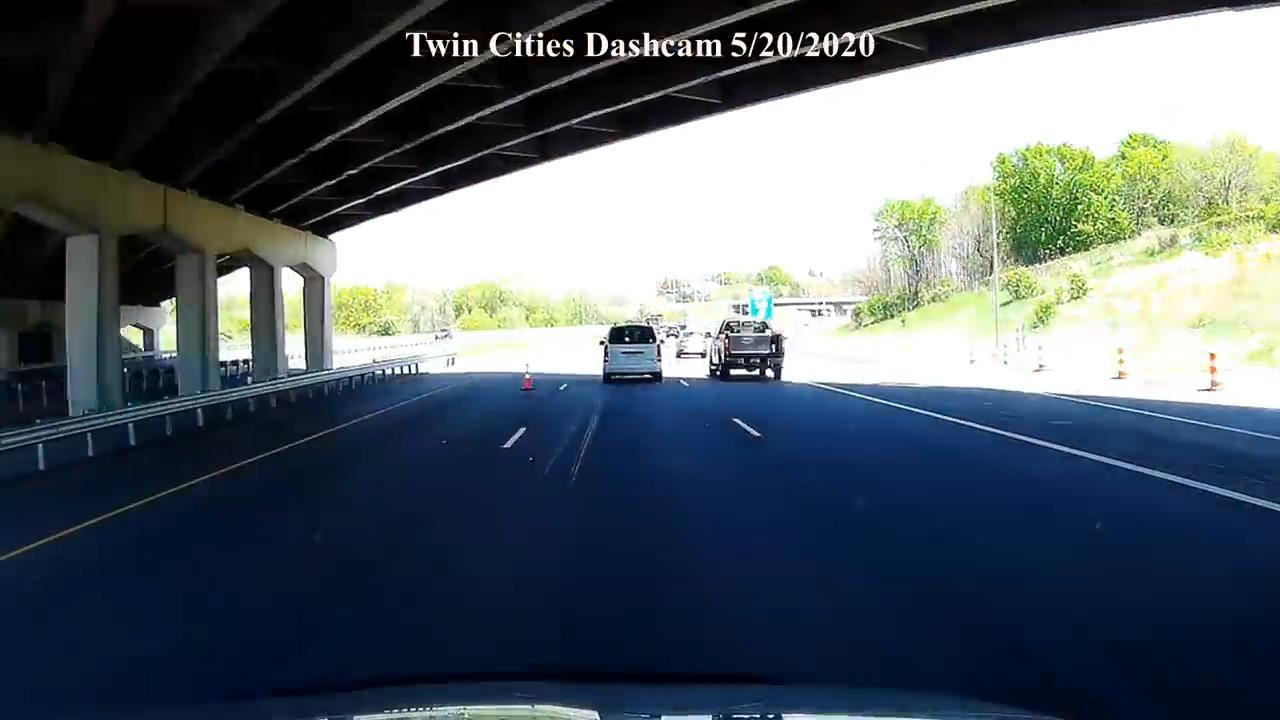car: (598, 324, 664, 385), (676, 329, 708, 359)
traffic cone: (1202, 351, 1223, 392), (520, 363, 534, 392)
